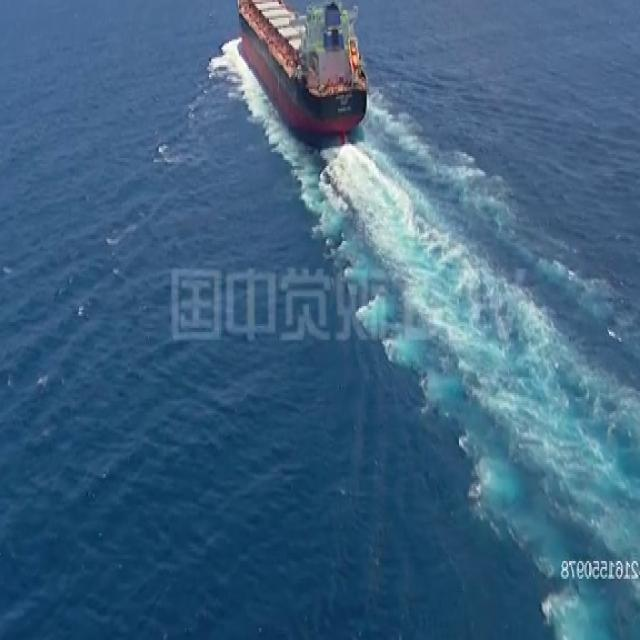cargoship: (237, 0, 374, 126)
